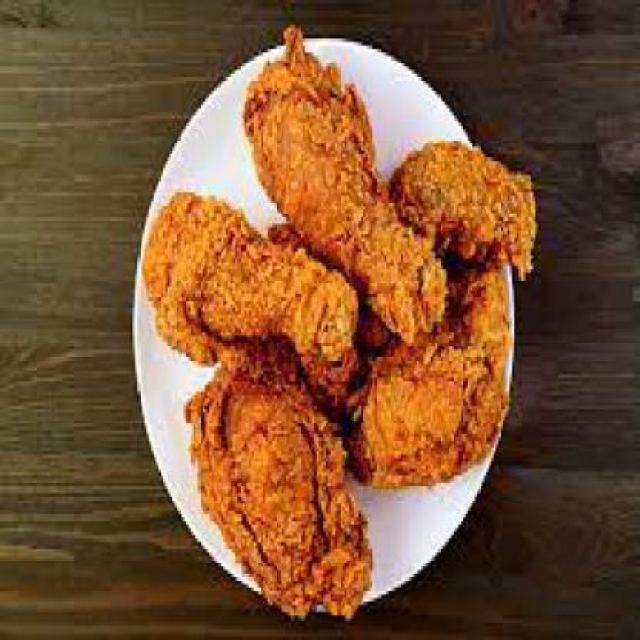Frango: (139, 28, 561, 626)
